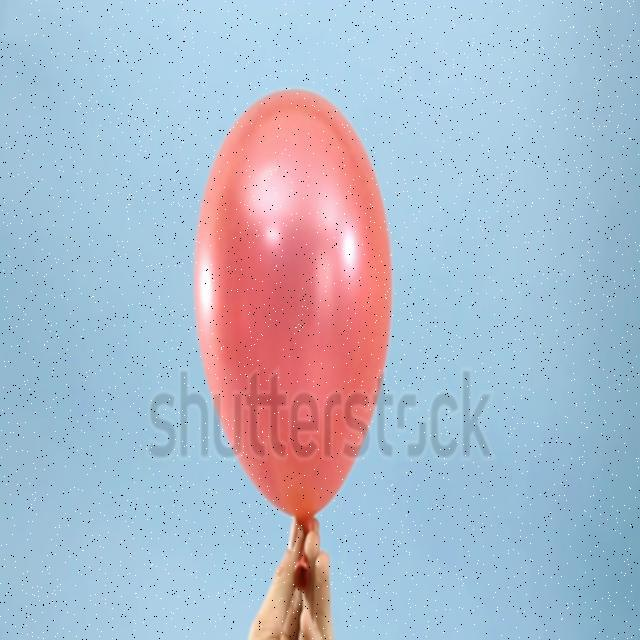red: (192, 87, 392, 529)
